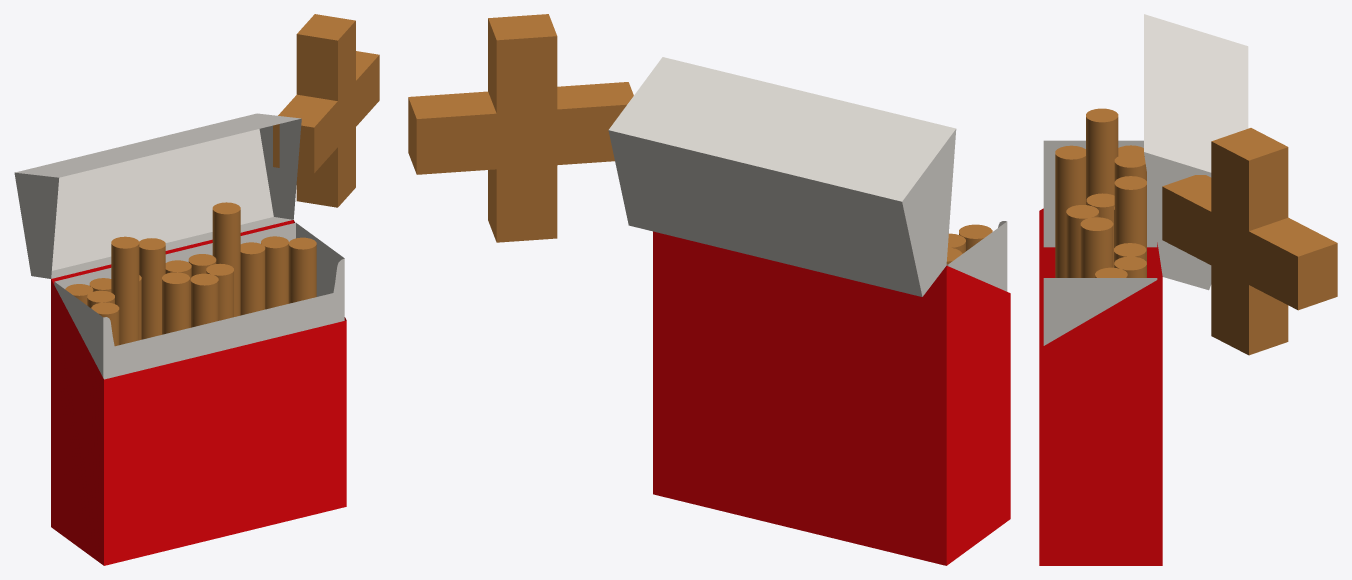
File: cig pack 1.fbx
The picture shows the model from 3 angles, left to right: view 1: azimuth 30°, elevation 25°; view 2: azimuth 150°, elevation 25°; view 3: azimuth 270°, elevation 25°; orthographic projection. The views are drawn at different scales.
Visible parts, largest first — view 1: cig pack; view 2: cig pack; view 3: cig pack.
Part boxes in pixels (bbox=[...]): cig pack: bbox=[14, 14, 379, 565]; cig pack: bbox=[408, 14, 1010, 565]; cig pack: bbox=[1039, 14, 1337, 565].
Bounding box in the file's own units: 80.97 × 79.3 × 46.48.
